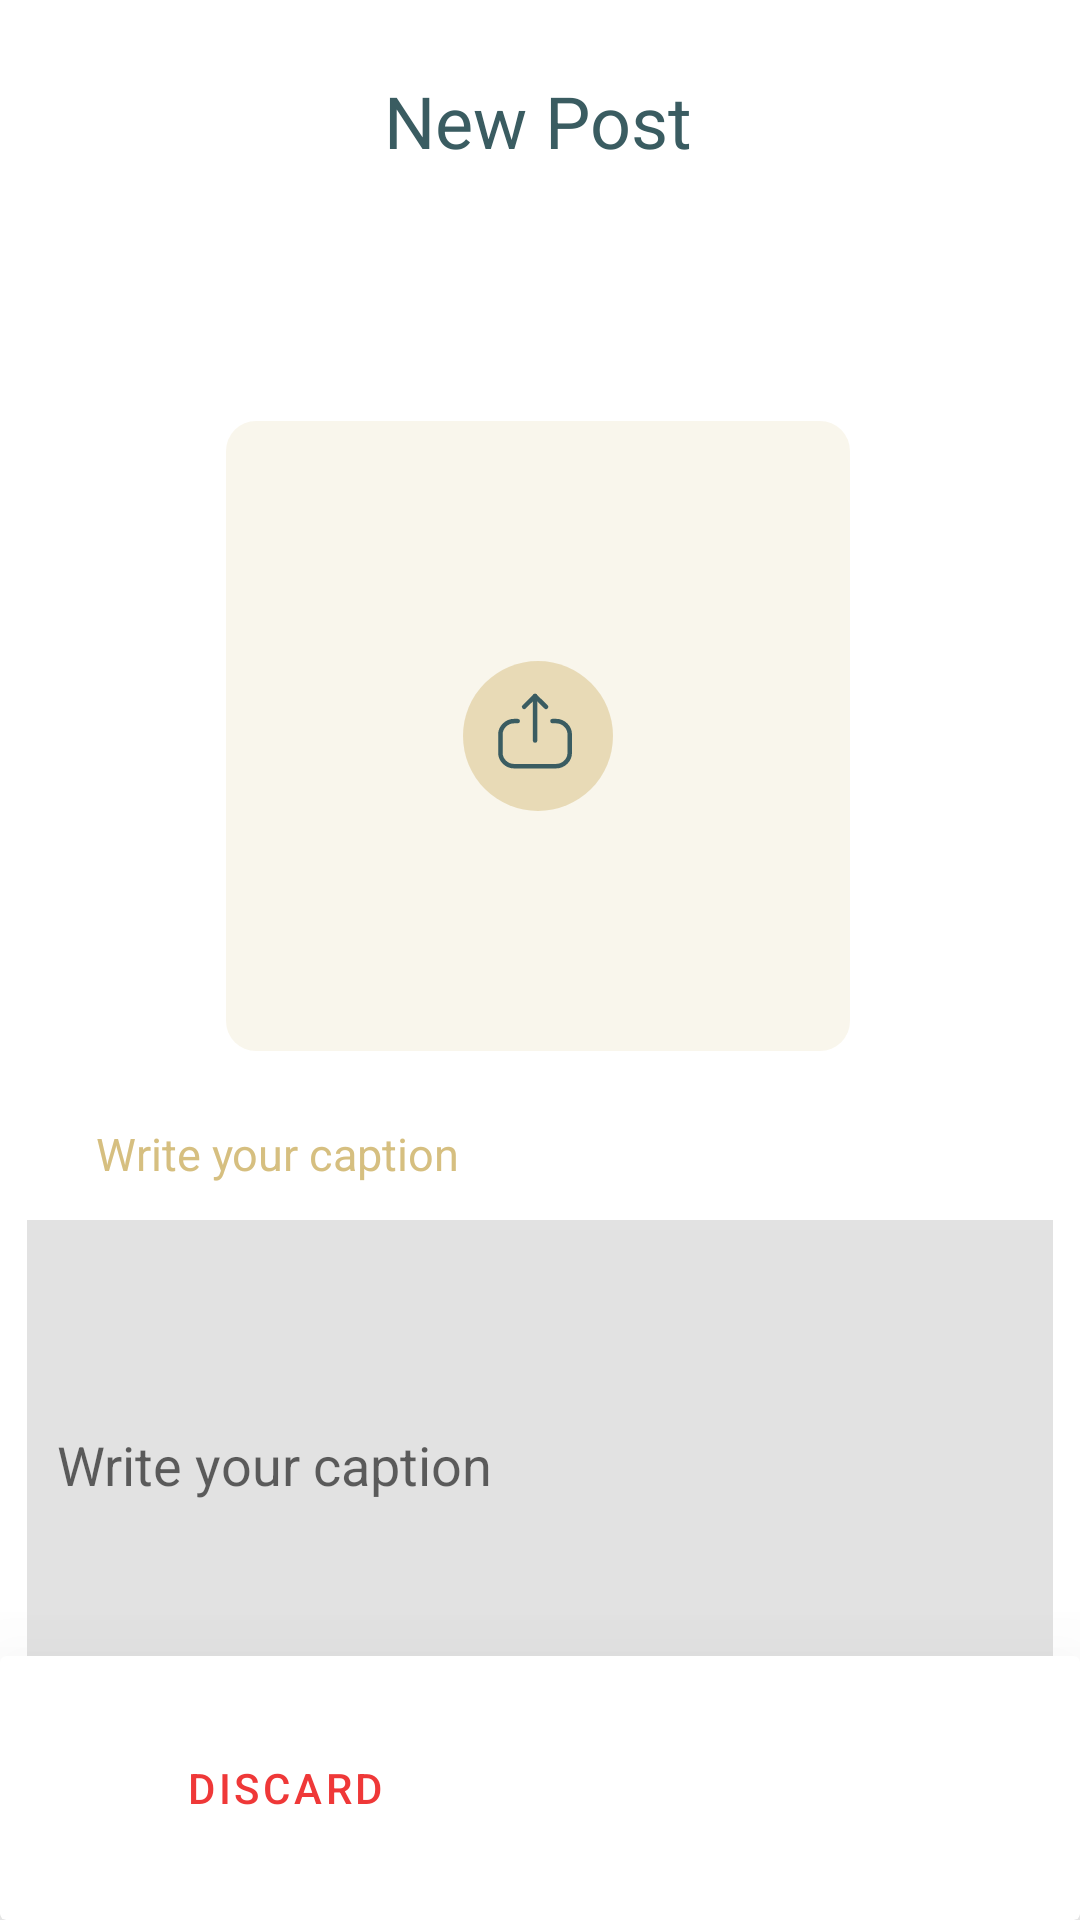

Icons on this 1080w x 1920h Android screen, each with the point to tap as (x=x, y=y):
upload: (x=535, y=731)
